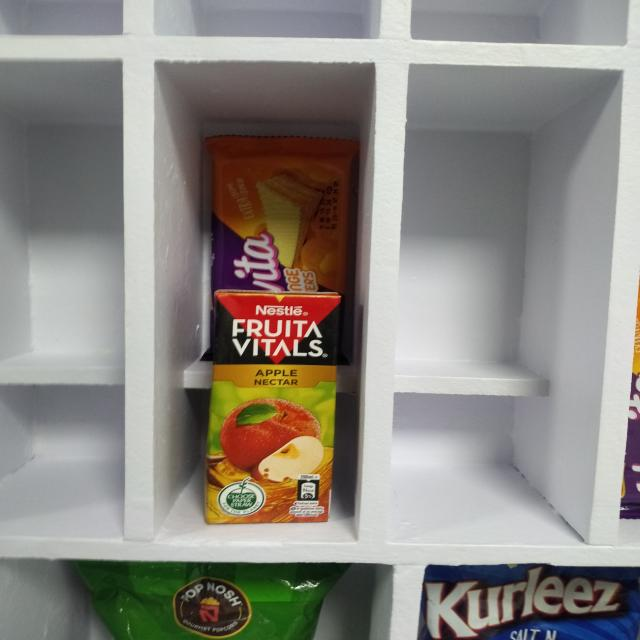Plastic: (211, 288, 337, 522), (207, 133, 352, 288), (72, 565, 344, 640), (422, 563, 640, 640)
